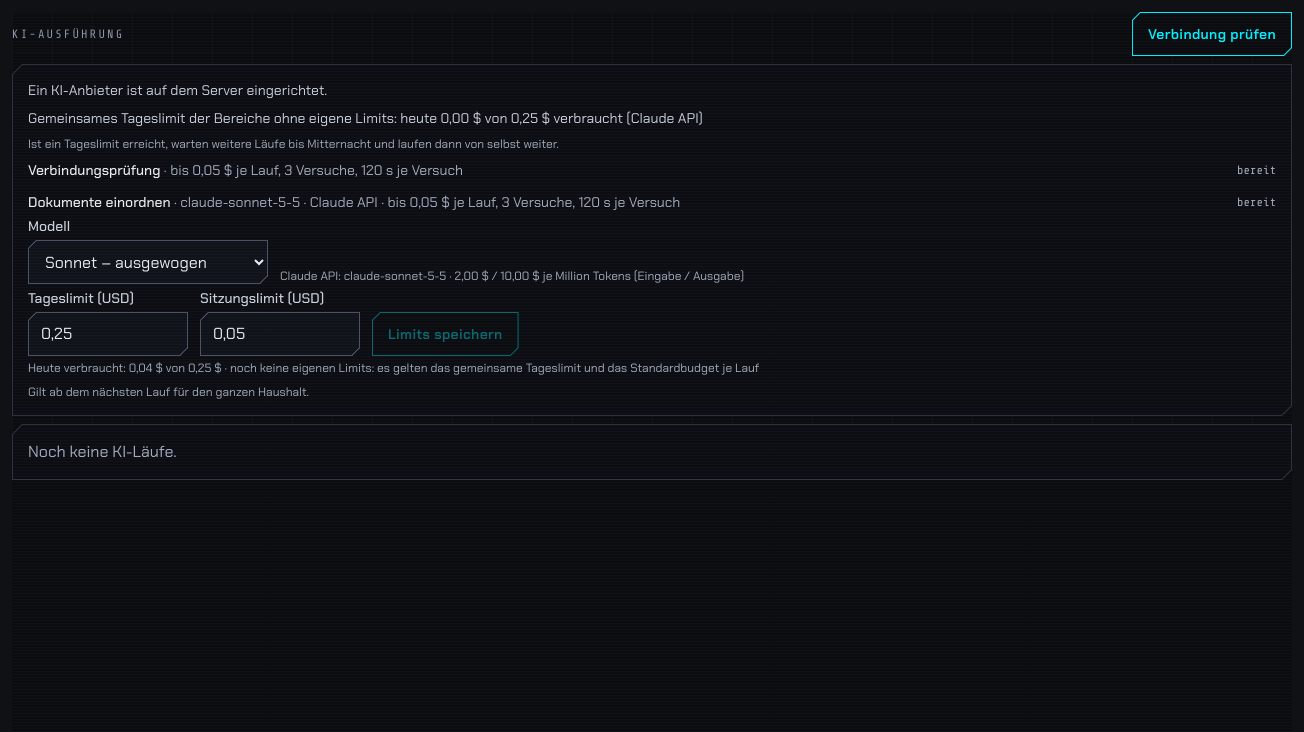
Test case: AI cost limits › explains limits that cannot be saved before sending them
Replace the text in the field with test id "ai-limits-DOCUMENT_CLASSIFICATION-run" with "0,30". click: (280, 334)
box: [200,312,360,356]
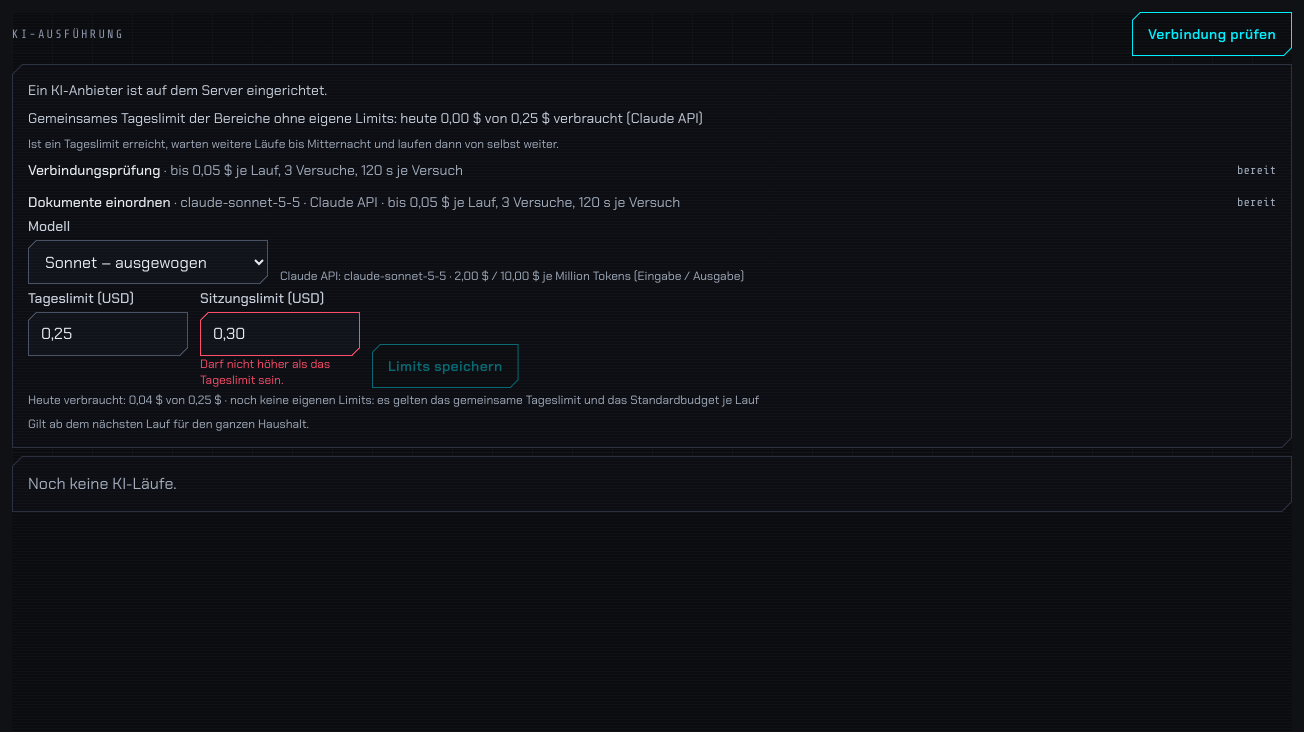
Expected: the button with test id "ai-limits-DOCUMENT_CLASSIFICATION-save" is disabled, [372,344,519,388]
Now the text "Darf nicht höher als das Tageslimit sein." is shown, box [200,356,330,388]
Clear the field with test id "ai-limits-DOCUMENT_CLASSIFICATION-daily". click: (108, 334)
box: [28,312,188,356]
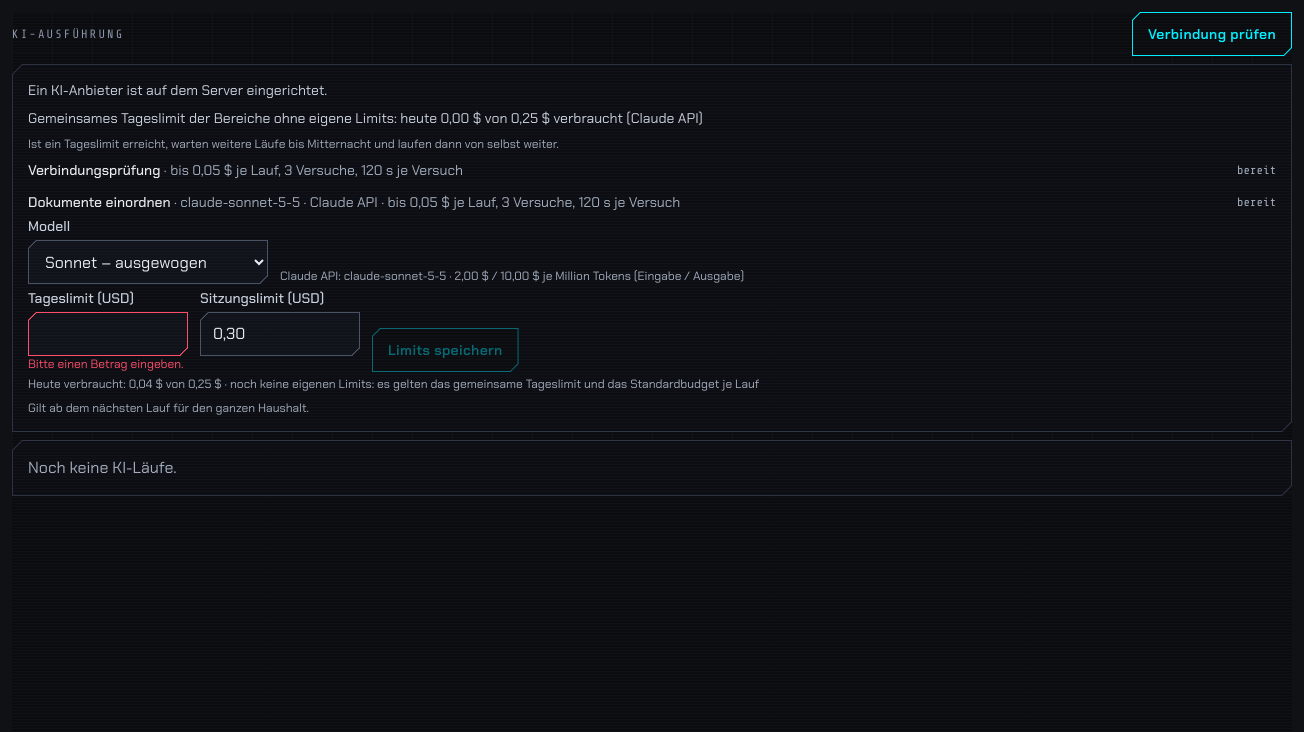
Now the text "Bitte einen Betrag eingeben." is shown, box [28,356,188,372]
Type "1001" into the field with test id "ai-limits-DOCUMENT_CLASSIFICATION-daily". click: (108, 334)
box: [28,312,188,356]
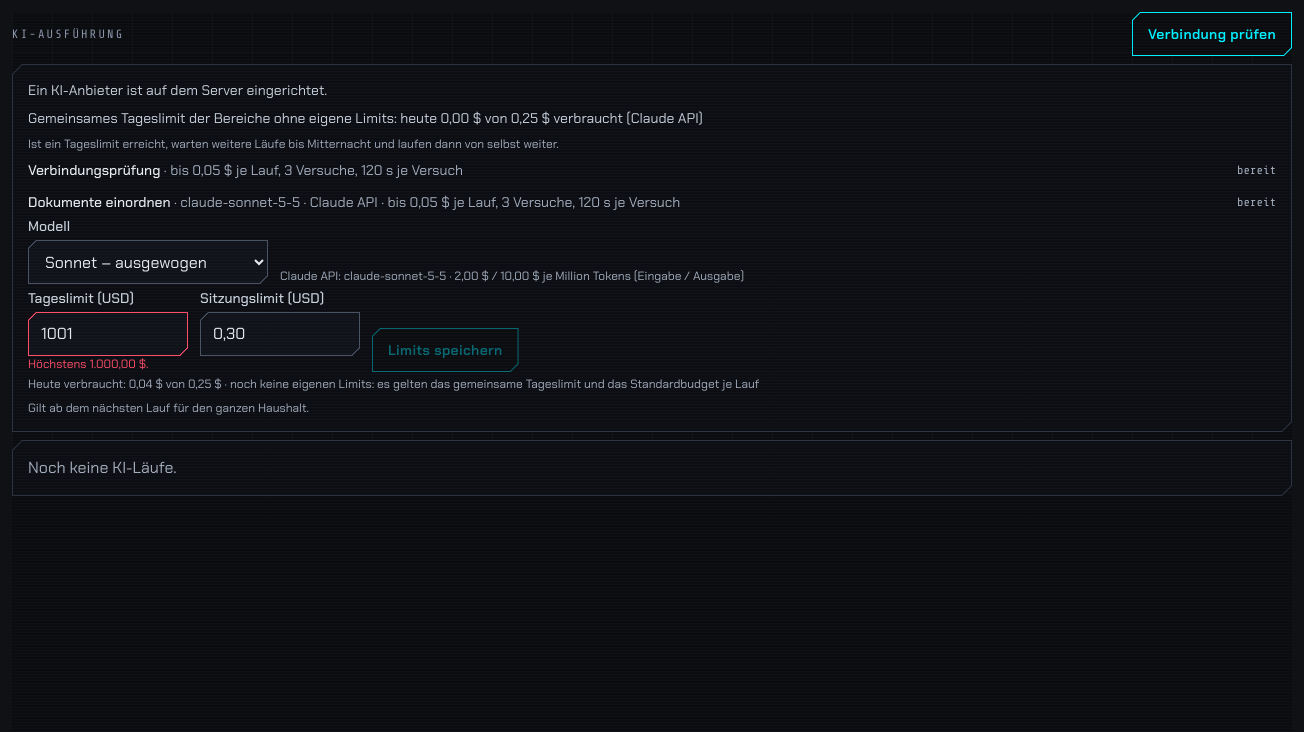
Now the text "Höchstens 1.000,00 $." is shown, box [28,356,148,372]
Replace the text in the field with test id "ai-limits-DOCUMENT_CLASSIFICATION-daily" with "0". click: (108, 334)
box: [28,312,188,356]
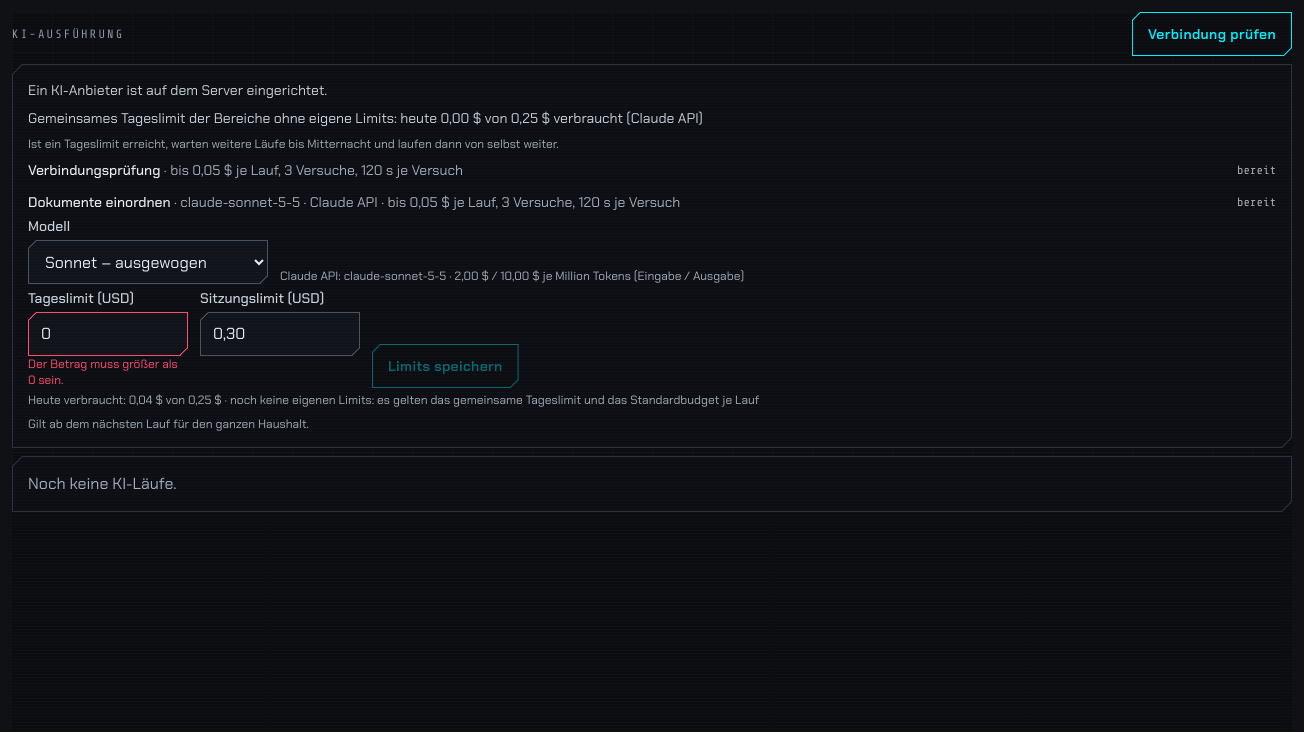
Expected: the button with test id "ai-limits-DOCUMENT_CLASSIFICATION-save" is disabled, [372,344,519,388]
Now the text "Der Betrag muss größer als 0 sein." is shown, box [28,356,188,388]
